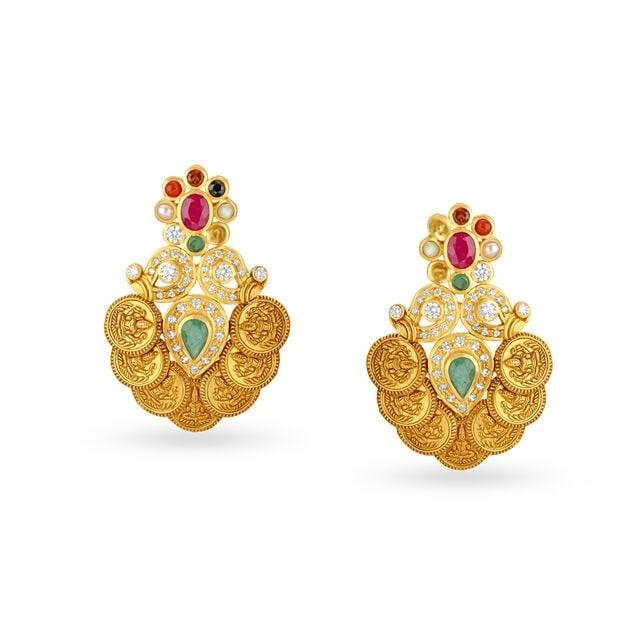missing gem: (209, 224, 228, 243), (431, 217, 449, 237), (430, 262, 448, 279)
